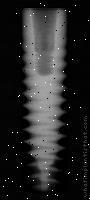DENTSPLY: (19, 9, 68, 193)
